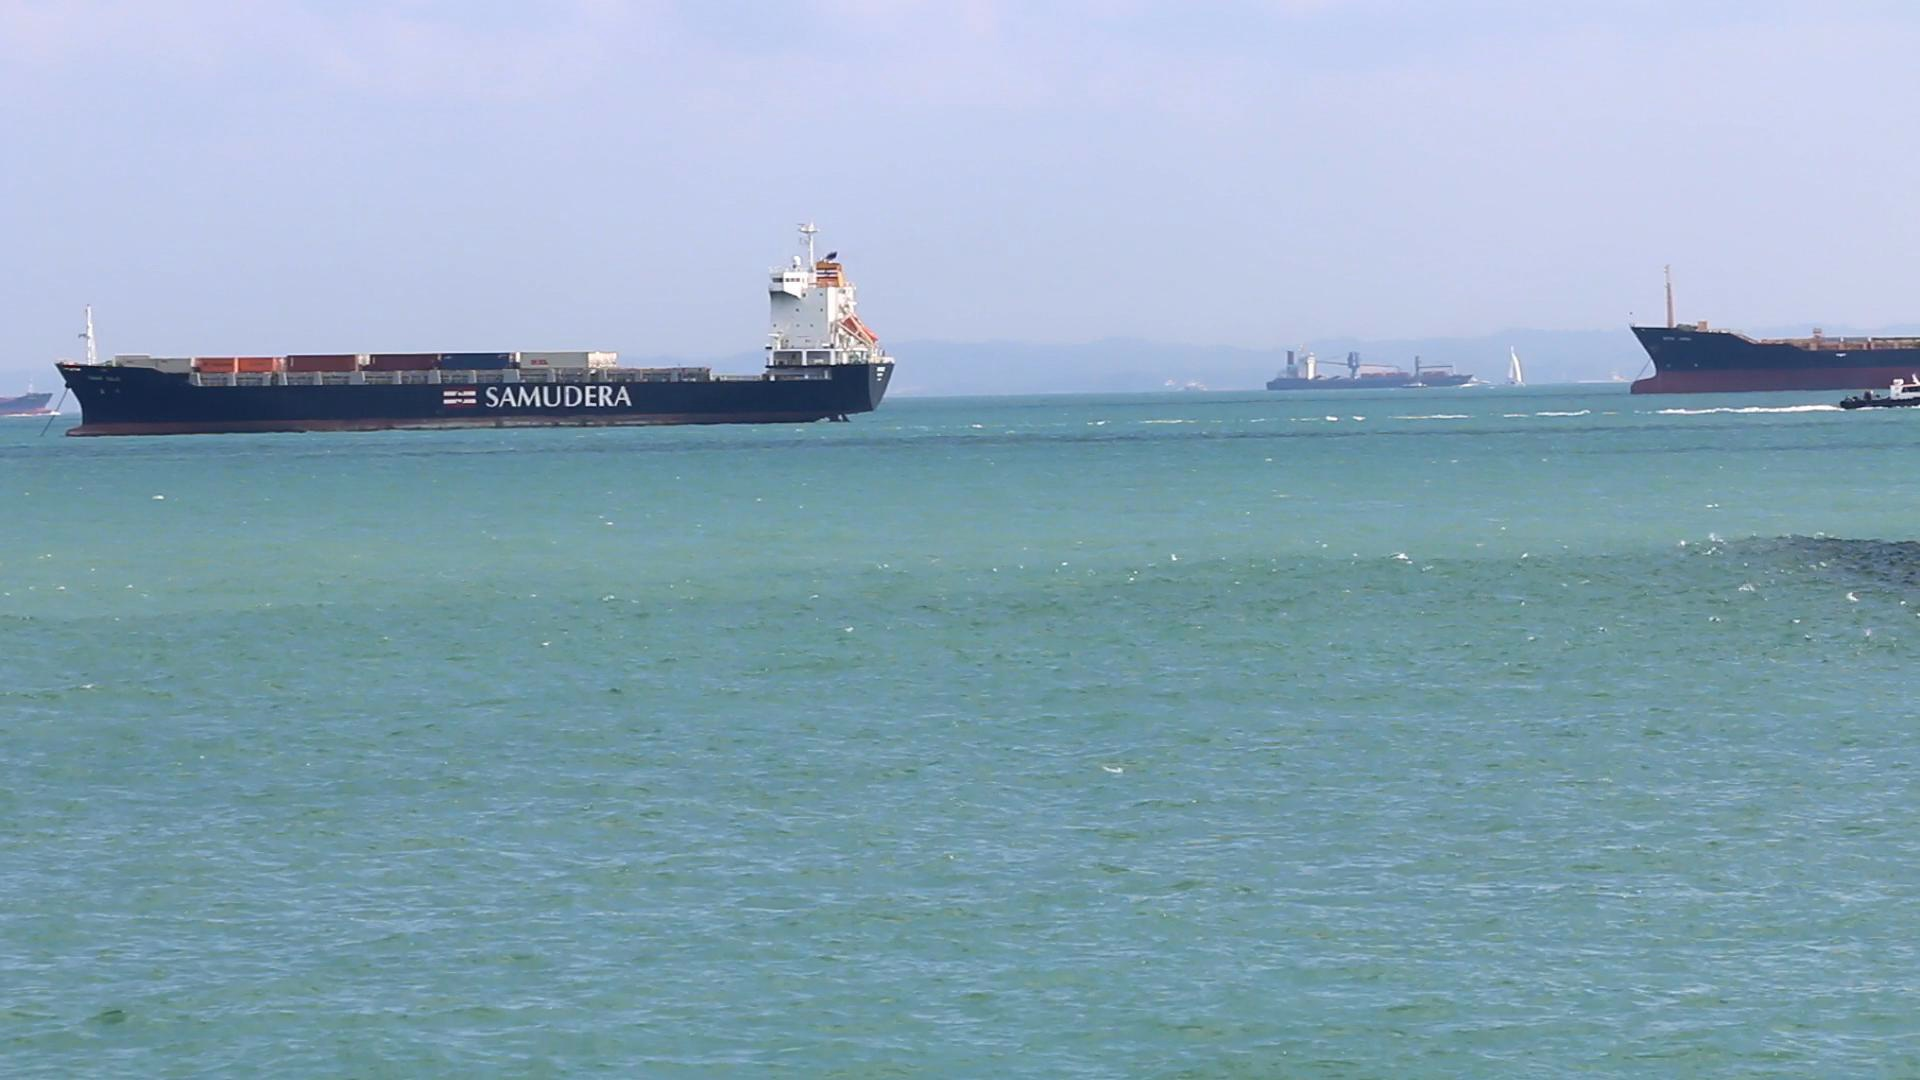Container Ship: (58, 222, 899, 438), (1630, 264, 1919, 397), (1263, 347, 1477, 393), (3, 388, 55, 421)
